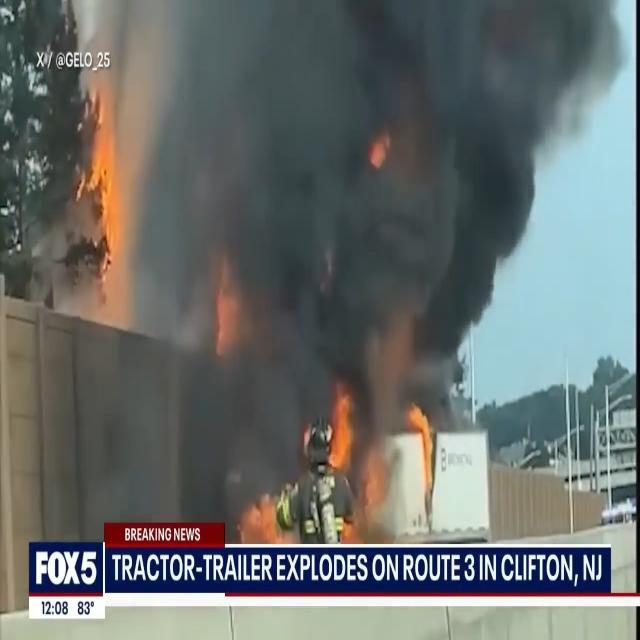fire: (78, 100, 126, 276), (330, 385, 364, 473)
